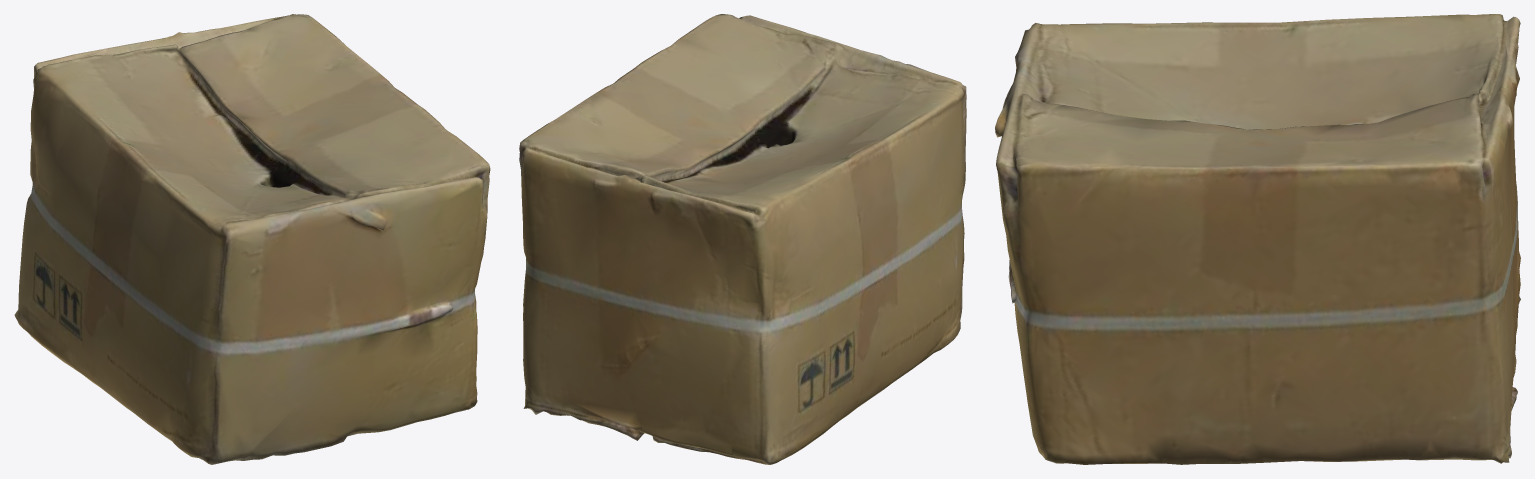
File: cardboard_box_01.glb
3 renders of one model, left to right at view 1: azimuth 30°, elevation 25°; view 2: azimuth 150°, elevation 25°; view 3: azimuth 270°, elevation 25°, orthographic. The views are drawn at different scales.
Visible parts, largest first — view 1: cardboard_box_01; view 2: cardboard_box_01; view 3: cardboard_box_01.
Part boxes in pixels (x1,y1,x2,y2): cardboard_box_01: [14, 14, 490, 464]; cardboard_box_01: [519, 14, 966, 464]; cardboard_box_01: [995, 14, 1520, 464].
Bounding box in the file's own units: 0.3869 × 0.3418 × 0.5159.
Materials: 1 (1 with a texture image).
